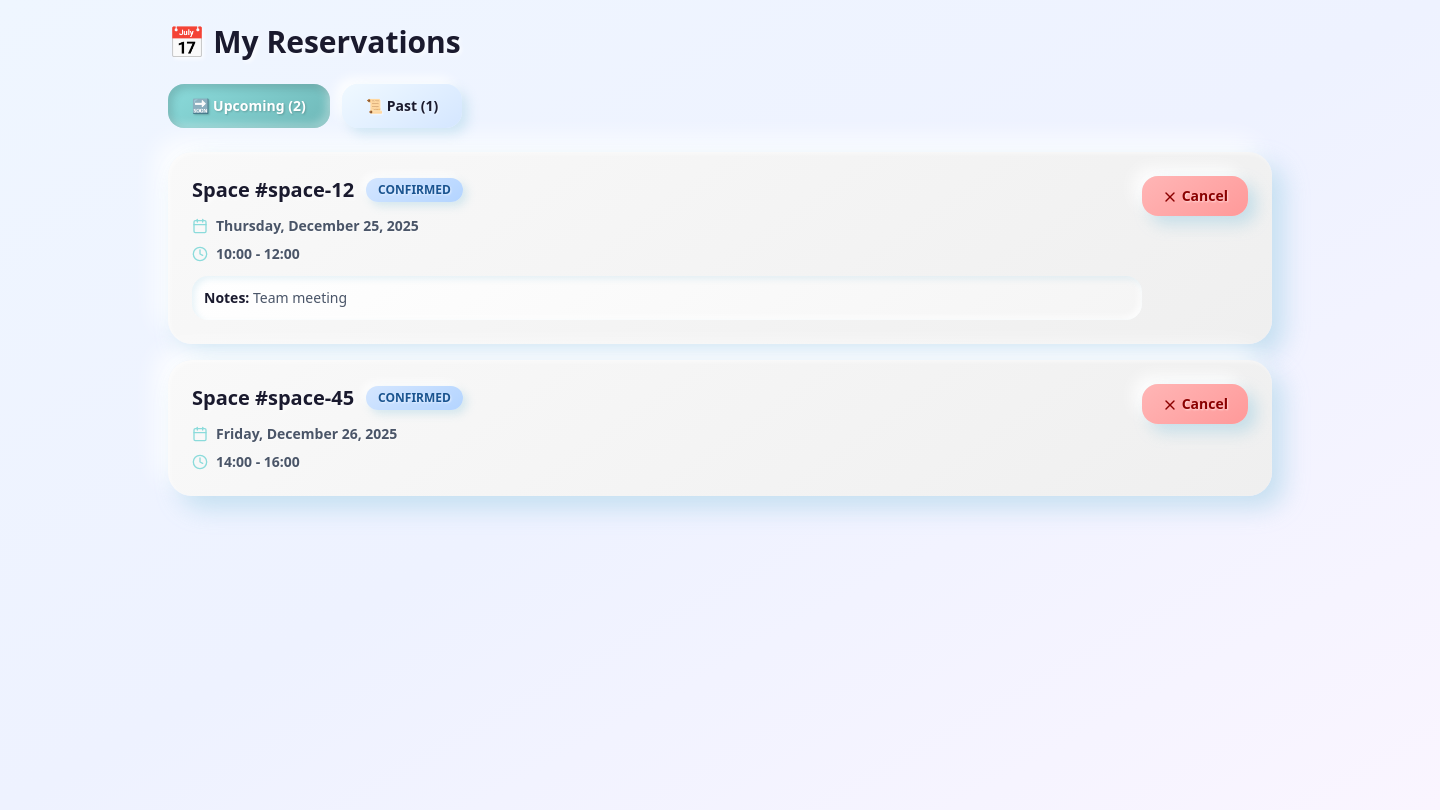
Scenario: MyReservations › switches to past reservations when Past tab is clicked
This screenshot has width=1440, height=810.
Step 1. Click the button "📜 Past (1)" → (402, 106), box 342,84 -> 462,128
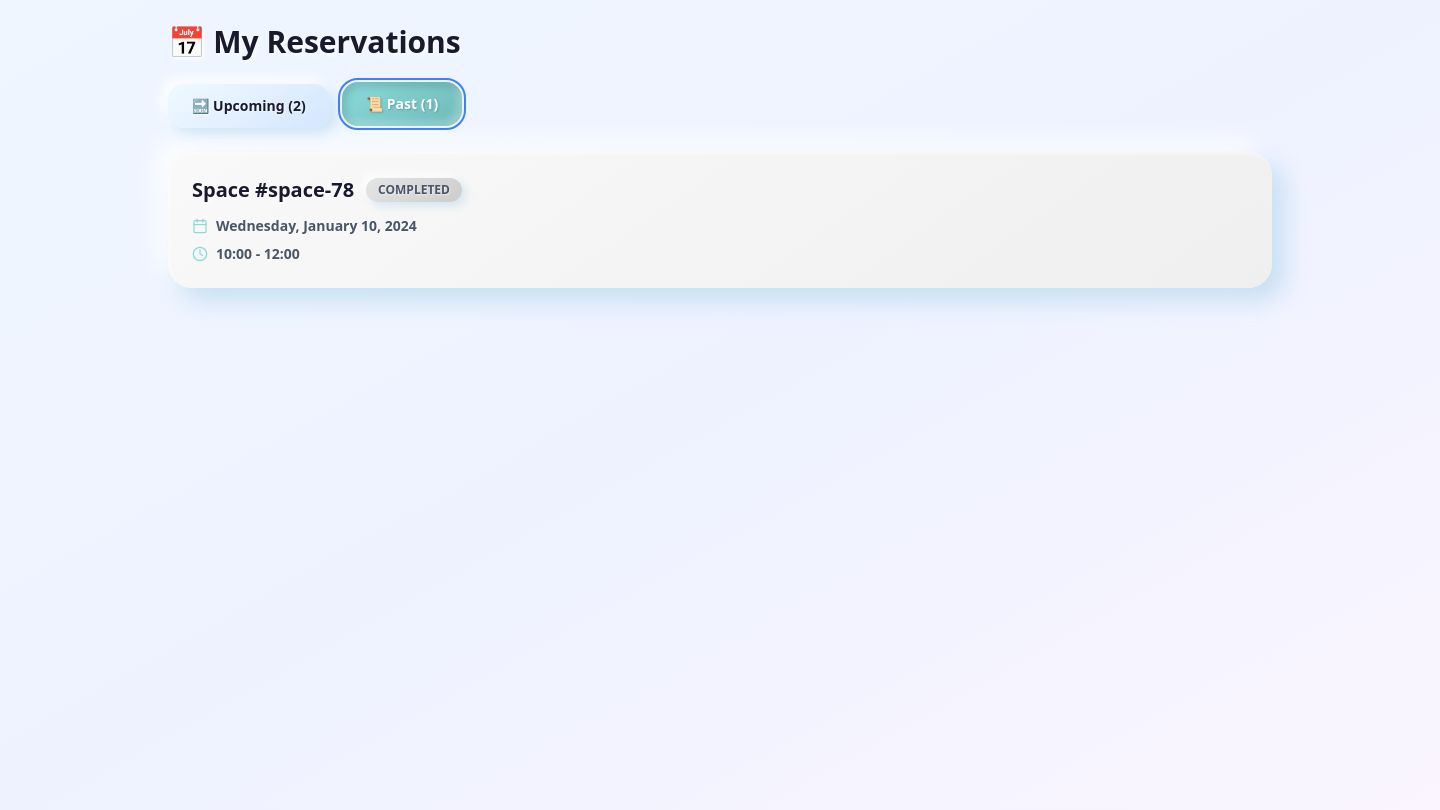
Now the heading "Space #space-78" is shown, box 192,176 -> 354,204
